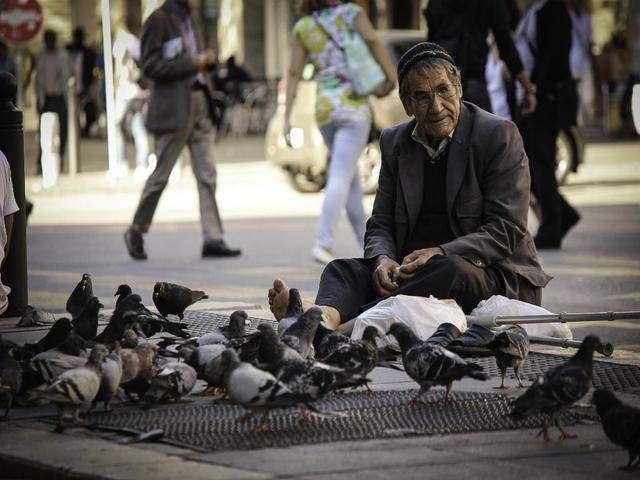bird: (6, 283, 619, 431)
